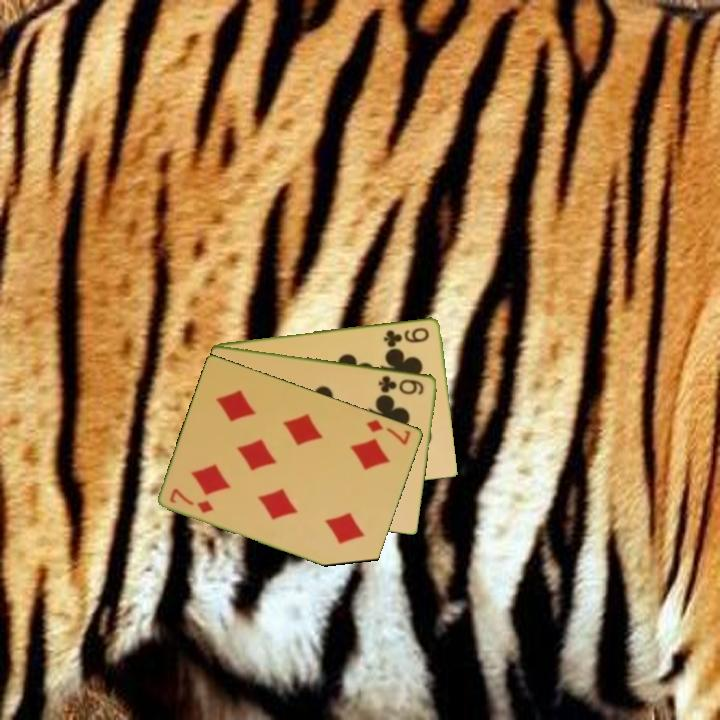6c: (375, 372, 427, 397)
7d: (363, 416, 414, 448), (166, 485, 217, 516)
9c: (380, 324, 432, 348)
